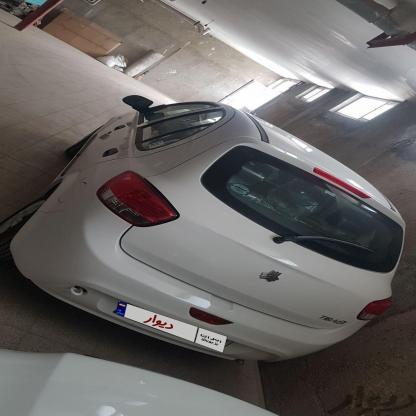Car: (5, 91, 416, 372)
